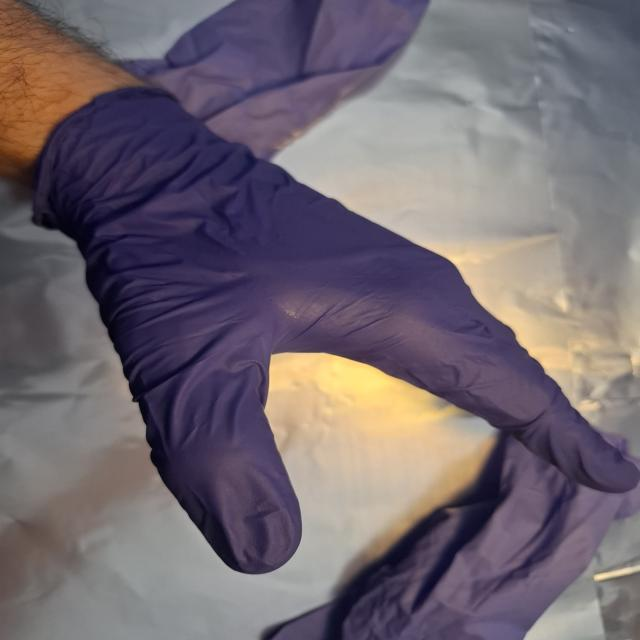glove_on: (18, 81, 640, 577)
